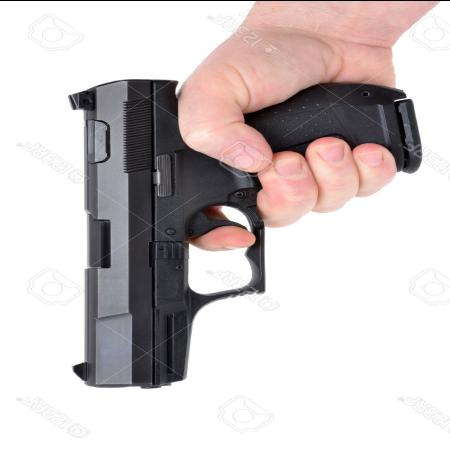Pistol: (70, 75, 424, 389)
